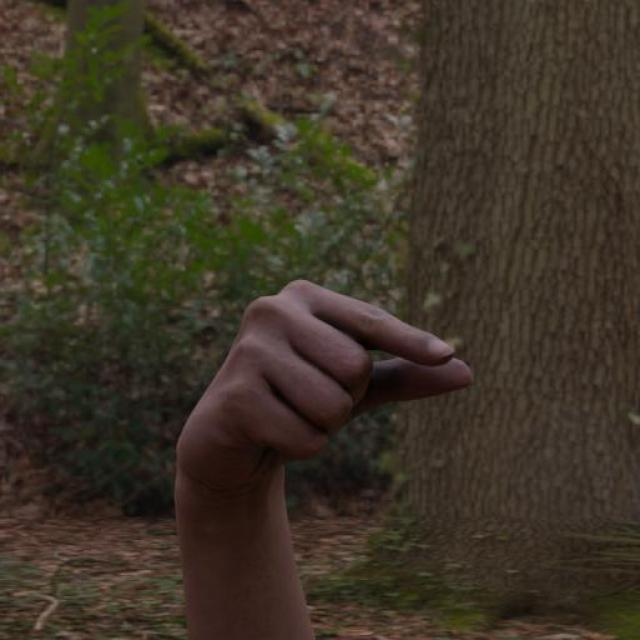G: (165, 281, 480, 470)
